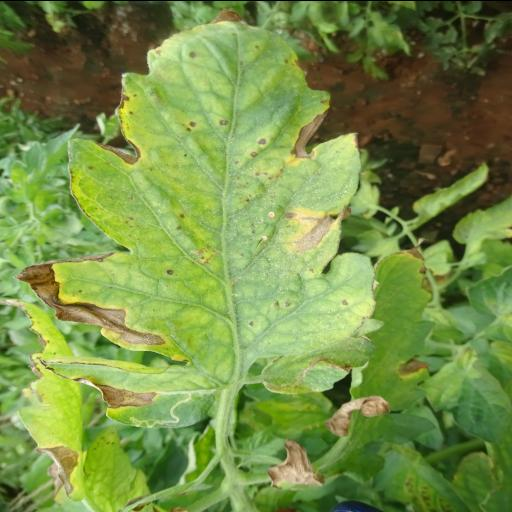disease_tomato: (12, 16, 376, 362)
